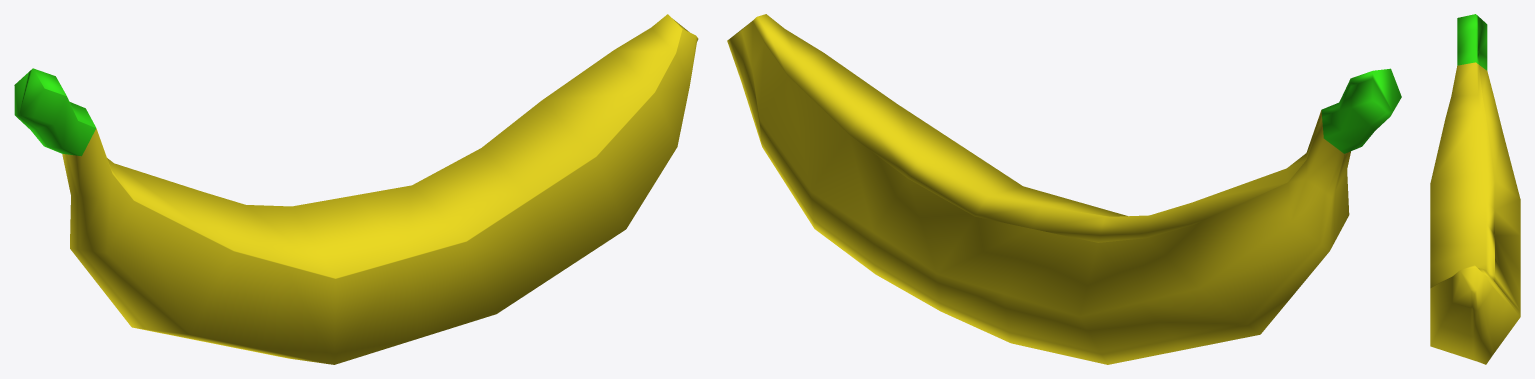
The model's file is pisang.glb.
3 renders of one model, left to right at view 1: azimuth 30°, elevation 25°; view 2: azimuth 150°, elevation 25°; view 3: azimuth 270°, elevation 25°, orthographic. The views are drawn at different scales.
Parts seen in each view (by area): view 1: Cylinder; view 2: Cylinder; view 3: Cylinder.
Part boxes in pixels (x1,y1,x2,y2): Cylinder: [14, 14, 698, 364]; Cylinder: [727, 14, 1401, 364]; Cylinder: [1430, 14, 1520, 364].
Size of the model in its own units: 1.83 by 0.9309 by 0.3408.
